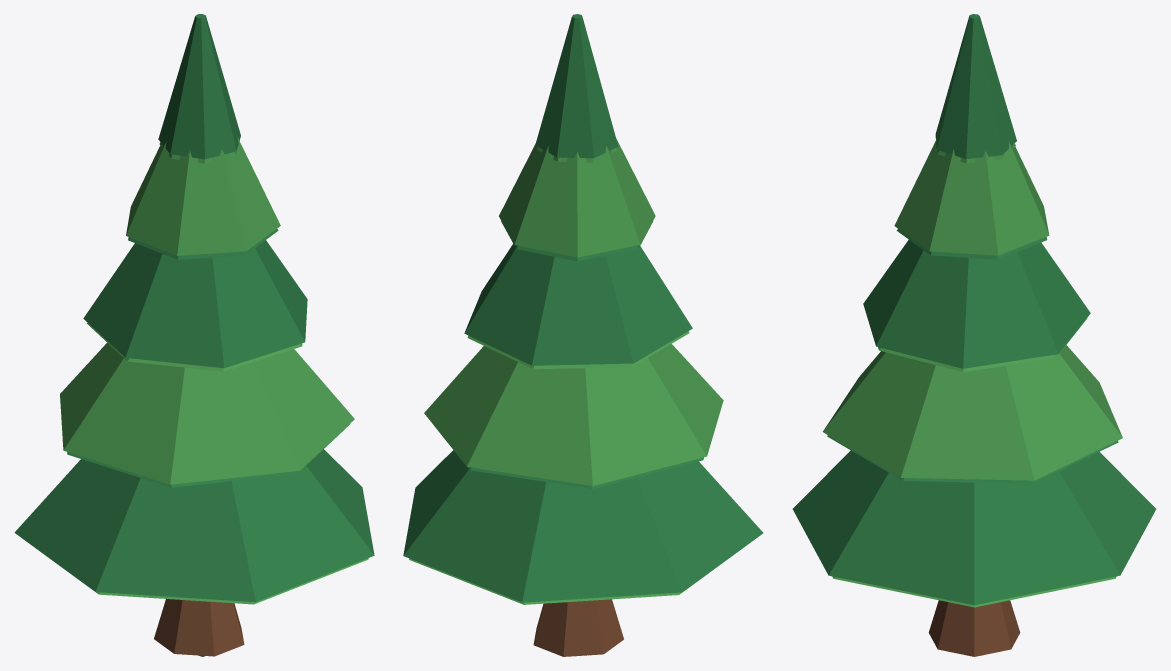
Rendered from Tree_Pine.fbx.
3 renders of one model, left to right at view 1: azimuth 30°, elevation 25°; view 2: azimuth 150°, elevation 25°; view 3: azimuth 270°, elevation 25°, orthographic.
Visible parts, largest first — view 1: Tree_Pine; view 2: Tree_Pine; view 3: Tree_Pine.
Part boxes in pixels (x1,y1,x2,y2): Tree_Pine: [14, 14, 374, 656]; Tree_Pine: [403, 14, 763, 656]; Tree_Pine: [792, 14, 1156, 656].
Bounding box in the file's own units: 3.34 × 6.57 × 3.43.
